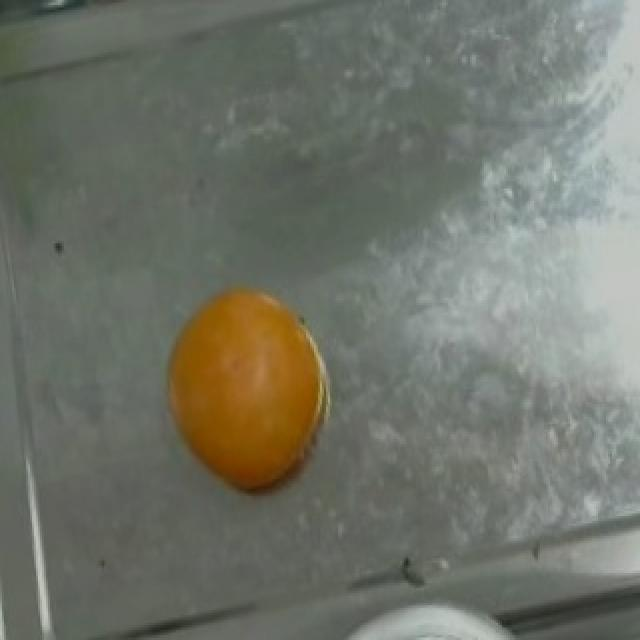Fruit: (146, 273, 350, 508), (314, 576, 552, 638)
